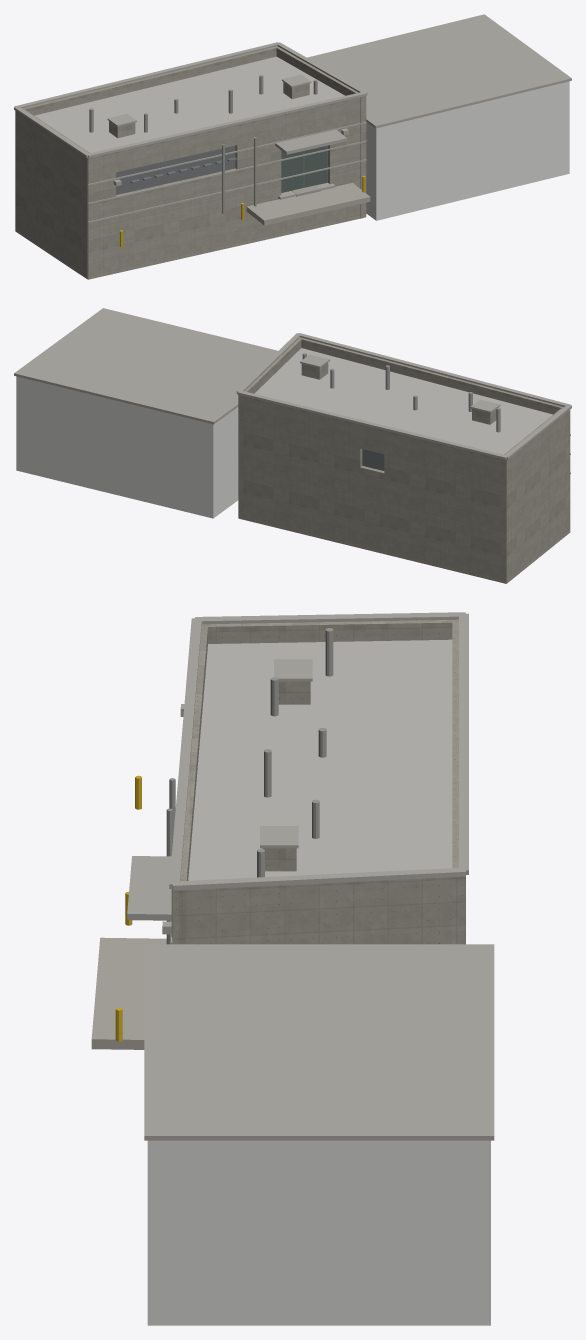
The picture shows the model from 3 angles, top to bottom: view 1: azimuth 30°, elevation 25°; view 2: azimuth 150°, elevation 25°; view 3: azimuth 270°, elevation 25°; orthographic projection. The views are drawn at different scales.
Visible parts, largest first — view 1: s21__gray-concrete-wall, s21__trim, s21__white-annex-wall, s21__roof, s21__stone-step, s21__louver-grey, s21__steel-door, s21__pipe-grey, s21__frame; view 2: s21__gray-concrete-wall, s21__trim, s21__white-annex-wall, s21__roof, s21__pipe-grey, s21__louver-grey; view 3: s21__trim, s21__white-annex-wall, s21__roof, s21__gray-concrete-wall, s21__stone-step, s21__pipe-grey.
Boxes of the visible parts, x1,y1,x2,y2 form: s21__gray-concrete-wall: (15,46,366,279); s21__trim: (14,14,571,222); s21__white-annex-wall: (366,81,569,220); s21__roof: (34,56,344,152); s21__stone-step: (246,183,370,225); s21__louver-grey: (116,146,236,194); s21__steel-door: (281,146,326,192); s21__pipe-grey: (89,75,317,213); s21__frame: (116,145,327,194); s21__gray-concrete-wall: (238,337,570,583); s21__trim: (14,308,571,473); s21__white-annex-wall: (16,376,238,518); s21__roof: (254,348,552,454); s21__pipe-grey: (302,353,500,432); s21__louver-grey: (363,449,384,469); s21__trim: (127,612,494,1140); s21__white-annex-wall: (147,1140,490,1325); s21__roof: (188,639,452,880); s21__gray-concrete-wall: (171,619,465,944); s21__stone-step: (91,937,166,1049); s21__pipe-grey: (166,628,333,944).
Bounding box in the file's own units: 32.14 × 8.8 × 11.73.
13 materials, 1 textured.
